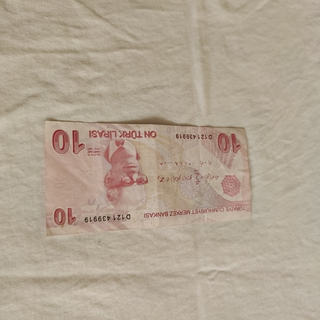10TLBack: (42, 118, 252, 238)
